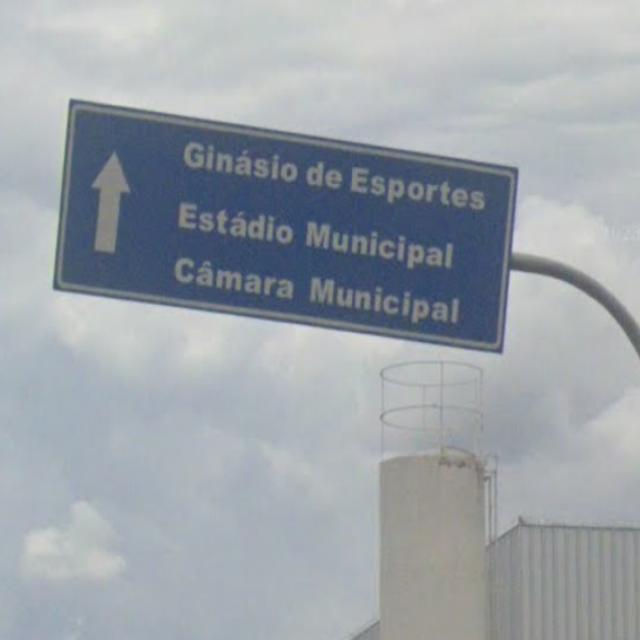indication: (42, 65, 534, 371)
